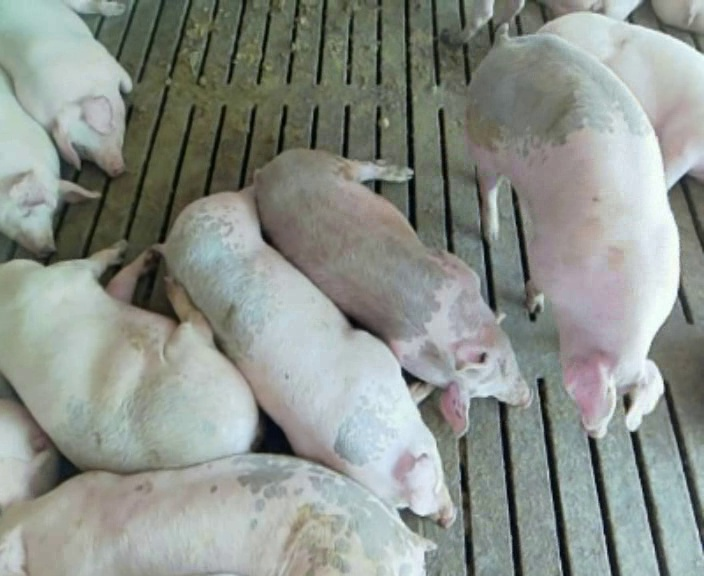pig: (161, 188, 454, 525), (466, 35, 678, 436), (256, 149, 530, 435), (0, 454, 433, 574), (538, 13, 703, 187), (652, 1, 703, 34)
